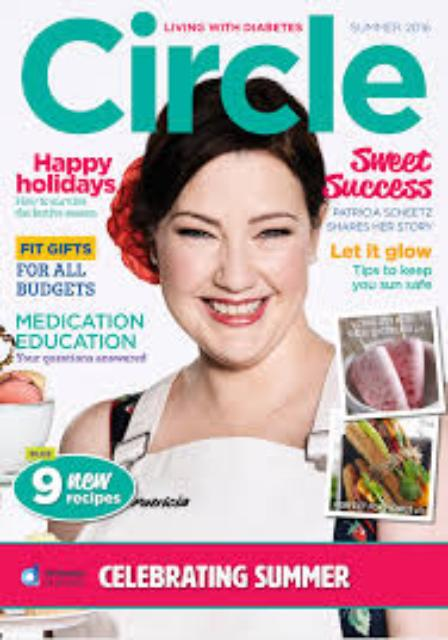cardboard paper: (224, 607, 337, 635), (139, 619, 217, 635), (215, 619, 256, 635)
